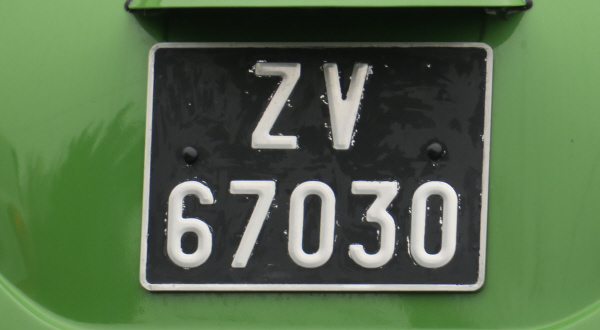license_plate: (139, 40, 494, 294)
